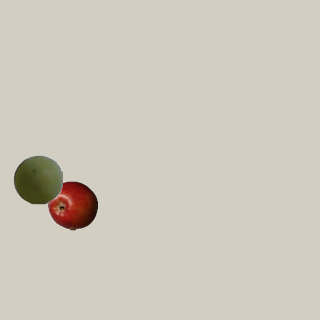Apple Braeburn: (47, 180, 97, 230)
Grape White 4: (12, 154, 62, 204)
